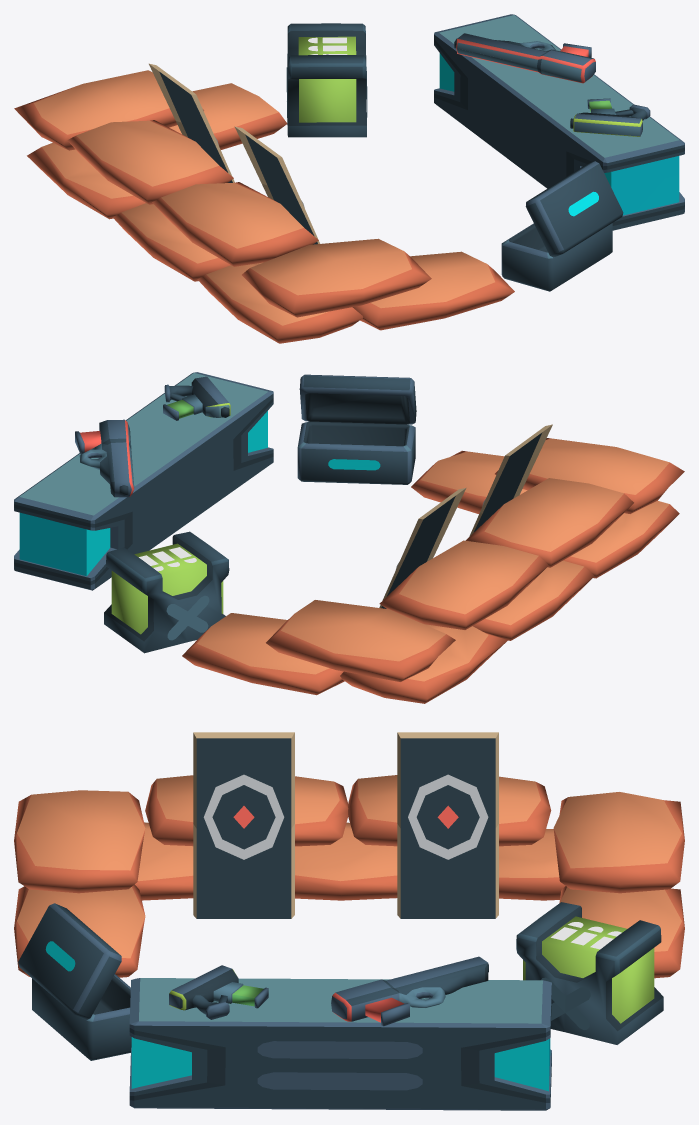
The model's file is Buildings_11.fbx.
3 renders of one model, top to bottom at view 1: azimuth 30°, elevation 25°; view 2: azimuth 150°, elevation 25°; view 3: azimuth 270°, elevation 25°, orthographic. The views are drawn at different scales.
Parts seen in each view (by area): view 1: Buildings.009; view 2: Buildings.009; view 3: Buildings.009.
Part boxes in pixels (<box>): Buildings.009: <box>14,14,684,343</box>; Buildings.009: <box>14,372,684,703</box>; Buildings.009: <box>14,732,684,1110</box>.
Size of the model in its own units: 383 by 406 by 108.
